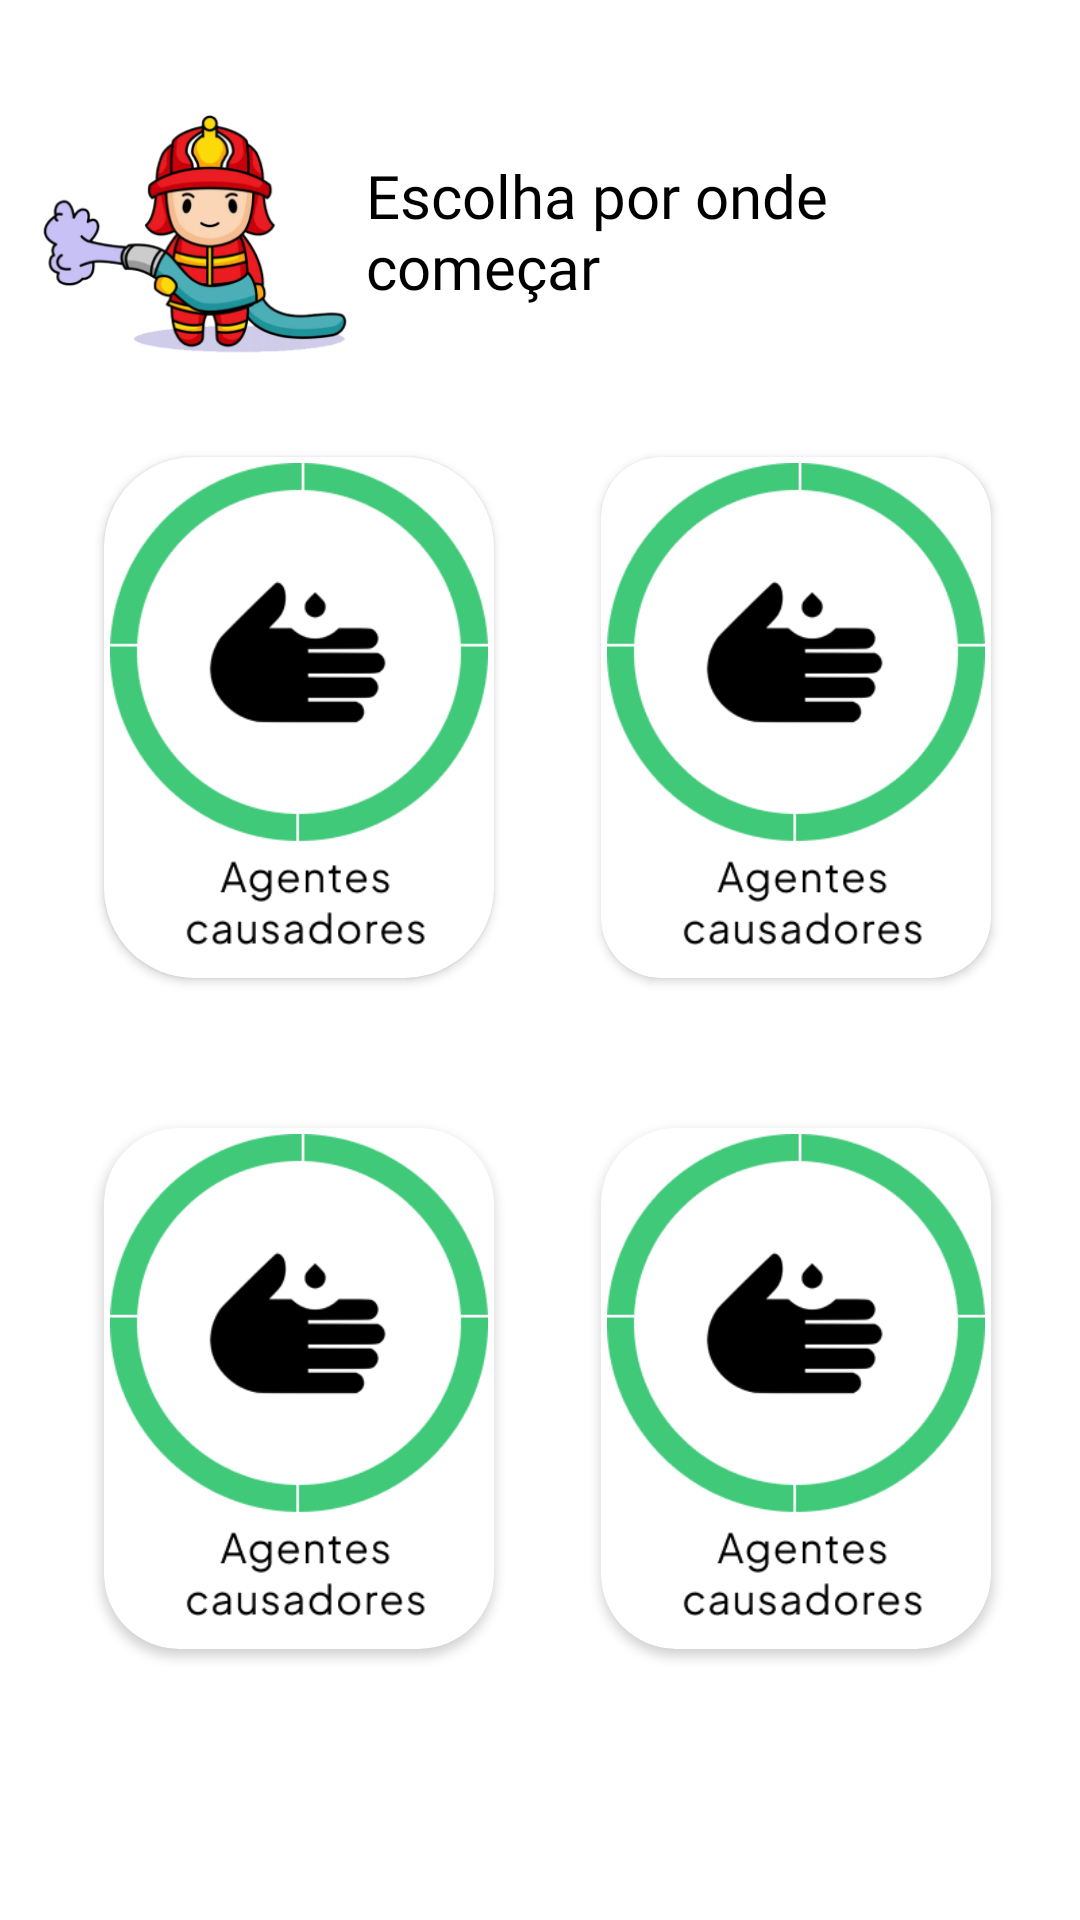

Named icons in this screenshot (1080px×1920px) and their centers, (x,y):
bombeiro mangueira: (195,233)
